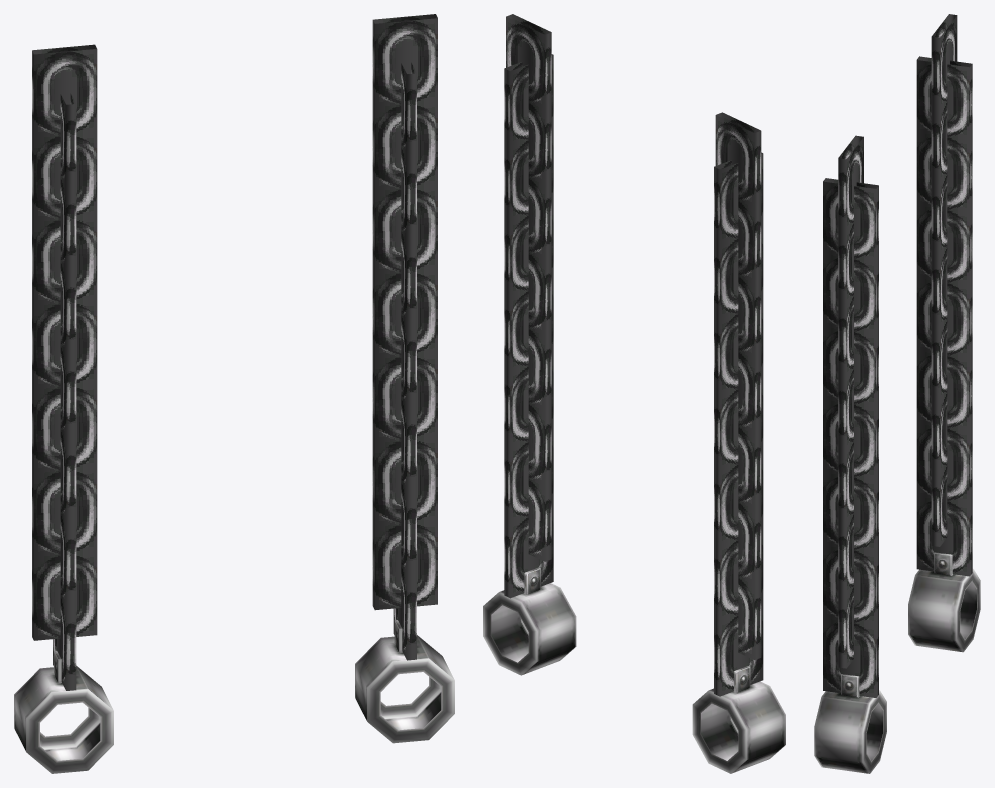
The model's file is SWORDLIGHT20_INST_CHAINCUFFS_LOD1_07.fbx.
3 views of the same model, side by side, from view 1: azimuth 30°, elevation 25°; view 2: azimuth 150°, elevation 25°; view 3: azimuth 270°, elevation 25° (orthographic). The views are drawn at different scales.
Parts seen in each view (by area): view 1: SWORDLIGHT20_INST_CHAINCUFFS_LOD1_07; view 2: SWORDLIGHT20_INST_CHAINCUFFS_LOD1_07; view 3: SWORDLIGHT20_INST_CHAINCUFFS_LOD1_07.
Part boxes in pixels (x1,y1,x2,y2): SWORDLIGHT20_INST_CHAINCUFFS_LOD1_07: (14, 14, 454, 773); SWORDLIGHT20_INST_CHAINCUFFS_LOD1_07: (483, 14, 785, 773); SWORDLIGHT20_INST_CHAINCUFFS_LOD1_07: (814, 14, 980, 773).
Size of the model in its own units: 6721 by 12114 by 2959.
Materials: 2 (2 with a texture image).
